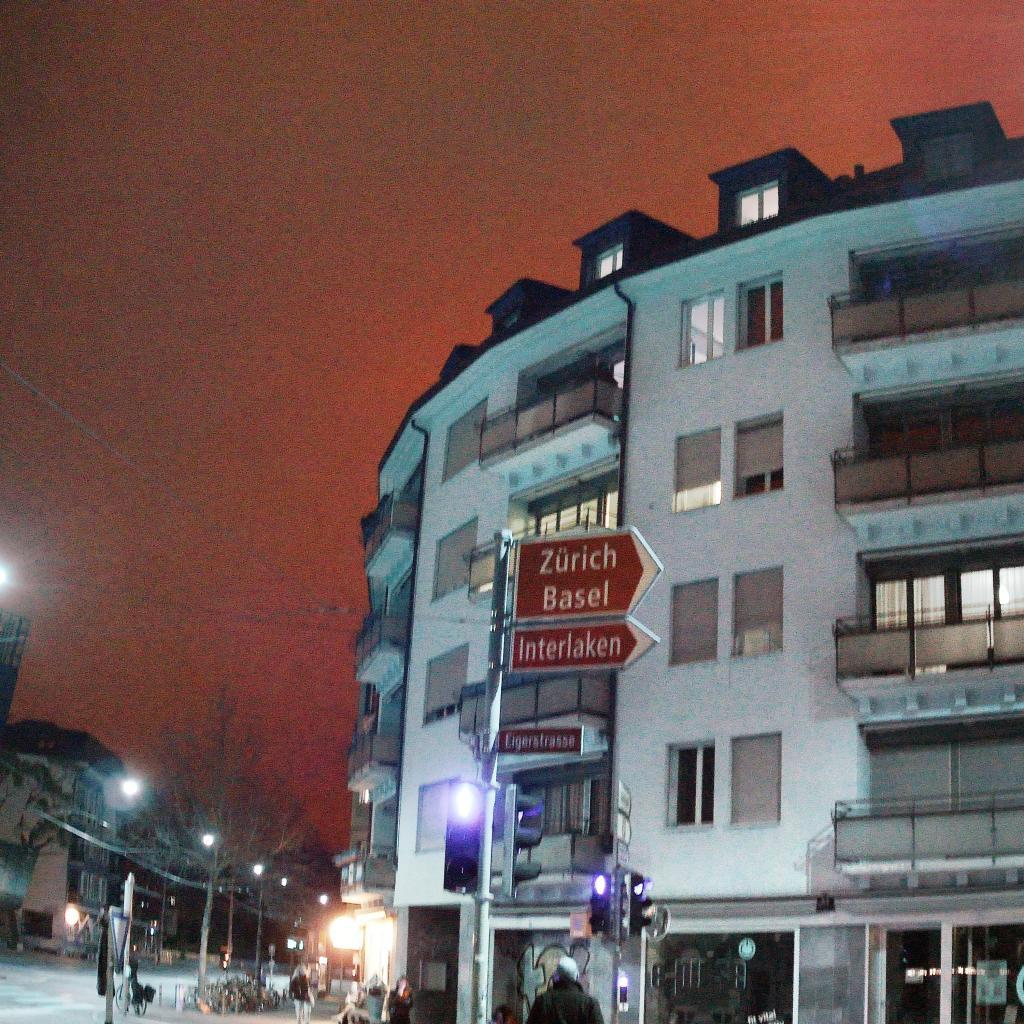balcony-fence: (826, 263, 1024, 345), (832, 426, 1024, 510), (835, 601, 1023, 677), (480, 366, 624, 459), (835, 791, 1024, 859), (460, 668, 616, 730), (523, 821, 611, 875), (361, 487, 419, 544), (357, 605, 411, 641), (348, 720, 402, 755), (334, 843, 397, 871)
facade: (613, 106, 1024, 923), (334, 214, 635, 903), (499, 673, 616, 839), (492, 838, 611, 926)
shop: (619, 912, 1024, 1024), (491, 926, 611, 1024), (20, 903, 107, 958), (352, 905, 396, 993), (131, 919, 163, 955)
street: (115, 955, 339, 1024), (0, 944, 105, 1024)
traffic-infrastructure: (444, 524, 666, 1024), (588, 778, 654, 1024), (98, 906, 133, 1024), (268, 942, 276, 990), (220, 945, 230, 970), (203, 834, 215, 847), (253, 863, 265, 874), (319, 894, 329, 905)
vegetation: (117, 678, 329, 1011), (0, 716, 127, 950), (183, 972, 282, 1015)
window: (859, 240, 1024, 302), (537, 340, 623, 414), (527, 469, 617, 535), (731, 563, 786, 658), (729, 730, 783, 825), (869, 738, 954, 798), (731, 407, 784, 501), (664, 736, 716, 829), (668, 577, 721, 668), (874, 570, 947, 632), (672, 423, 721, 514), (430, 517, 478, 605), (735, 269, 785, 353), (442, 393, 488, 484), (955, 736, 1024, 794), (423, 643, 469, 728), (959, 562, 1024, 622), (679, 286, 725, 370), (871, 409, 951, 455), (953, 400, 1023, 446), (919, 129, 976, 182), (414, 779, 449, 855), (734, 176, 779, 229), (544, 781, 584, 832), (588, 778, 611, 832), (594, 242, 623, 281), (503, 310, 519, 328), (141, 900, 150, 910)
